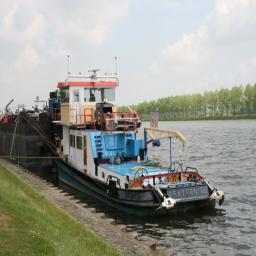tugboat: (51, 55, 227, 228)
